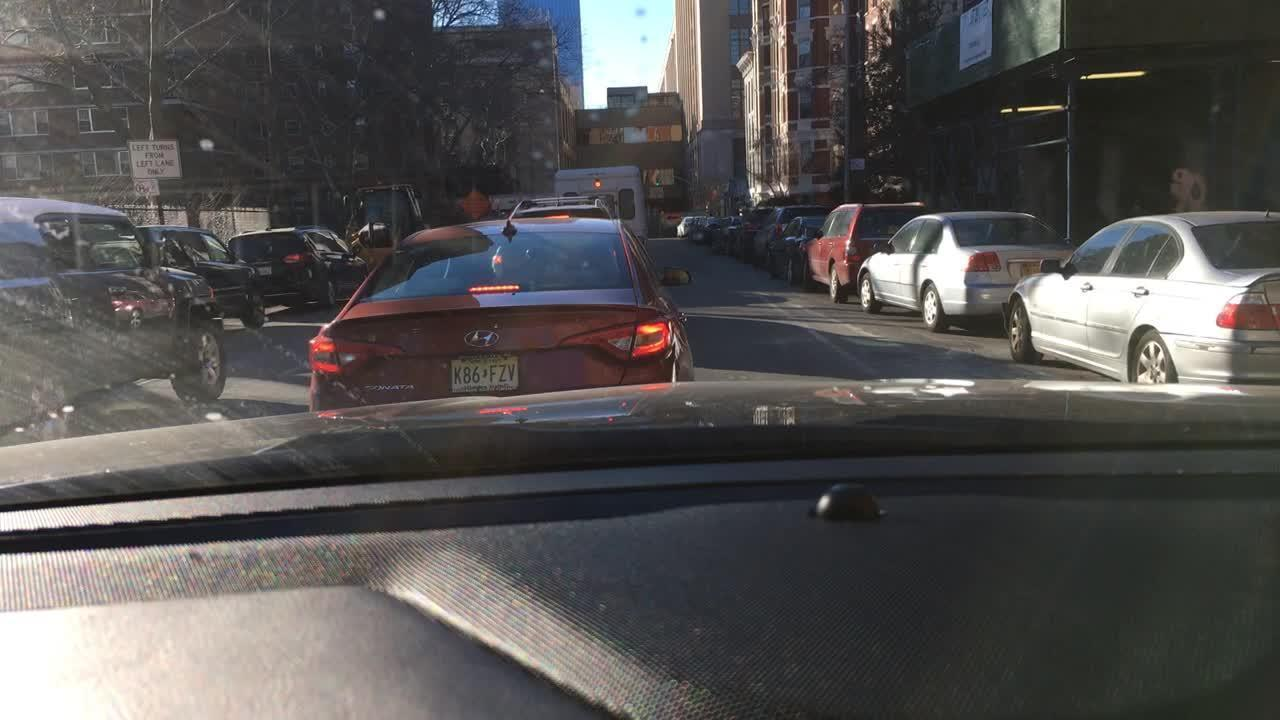Hyundai: (459, 326, 500, 351)
